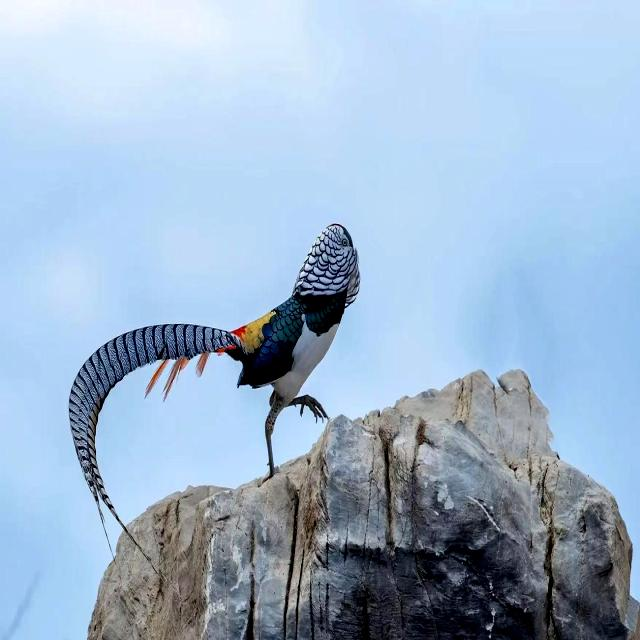Chrysolophus amherstiae: (69, 323, 244, 528)
